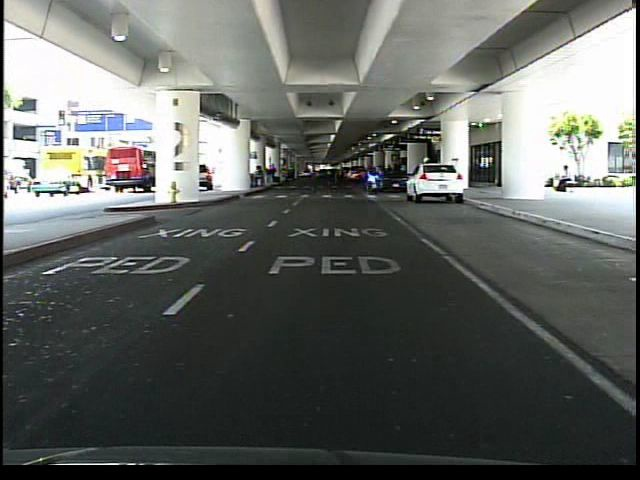person: (547, 159, 575, 197), (418, 154, 435, 199)
